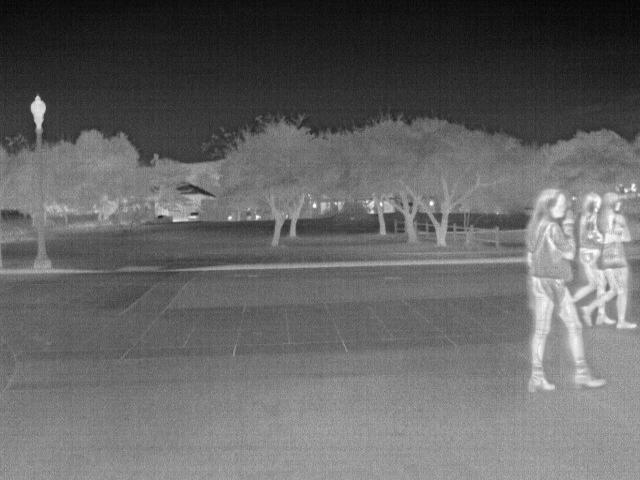person: (523, 185, 608, 392), (580, 193, 636, 331), (575, 190, 613, 326)
